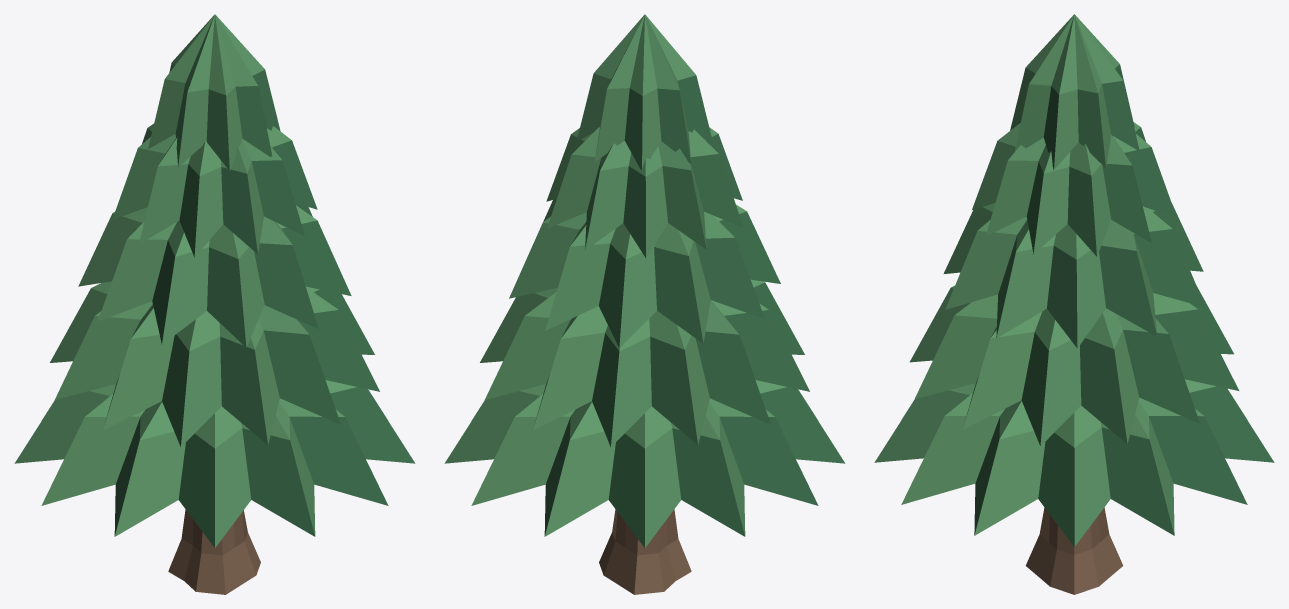
The model's file is pine_tree.glb.
3 views of the same model, side by side, from view 1: azimuth 30°, elevation 25°; view 2: azimuth 150°, elevation 25°; view 3: azimuth 270°, elevation 25° (orthographic).
Visible parts, largest first — view 1: PineTree_Tier_1, PineTree_Tier_2, PineTree_Tier_3, PineTree_Tier_4, PineTree_Tier_5, PineTree_Trunk.001; view 2: PineTree_Tier_1, PineTree_Tier_2, PineTree_Tier_3, PineTree_Tier_4, PineTree_Tier_5, PineTree_Trunk.001; view 3: PineTree_Tier_1, PineTree_Tier_2, PineTree_Tier_3, PineTree_Tier_4, PineTree_Tier_5, PineTree_Trunk.001.
Part boxes in pixels (x1,y1,x2,y2): PineTree_Tier_1: (14, 380, 415, 547); PineTree_Tier_2: (50, 281, 379, 446); PineTree_Tier_3: (78, 203, 351, 347); PineTree_Tier_4: (112, 123, 317, 257); PineTree_Tier_5: (148, 14, 280, 170); PineTree_Trunk.001: (168, 509, 260, 594); PineTree_Tier_1: (444, 380, 845, 547); PineTree_Tier_2: (480, 279, 809, 446); PineTree_Tier_3: (509, 199, 780, 347); PineTree_Tier_4: (546, 127, 743, 258); PineTree_Tier_5: (576, 14, 713, 169); PineTree_Trunk.001: (599, 509, 691, 594); PineTree_Tier_1: (874, 379, 1274, 546); PineTree_Tier_2: (910, 285, 1239, 446); PineTree_Tier_3: (943, 203, 1205, 348); PineTree_Tier_4: (972, 122, 1176, 256); PineTree_Tier_5: (1010, 14, 1139, 169); PineTree_Trunk.001: (1025, 507, 1123, 594).
Size of the model in its own units: 3.8 by 5.85 by 3.8.
